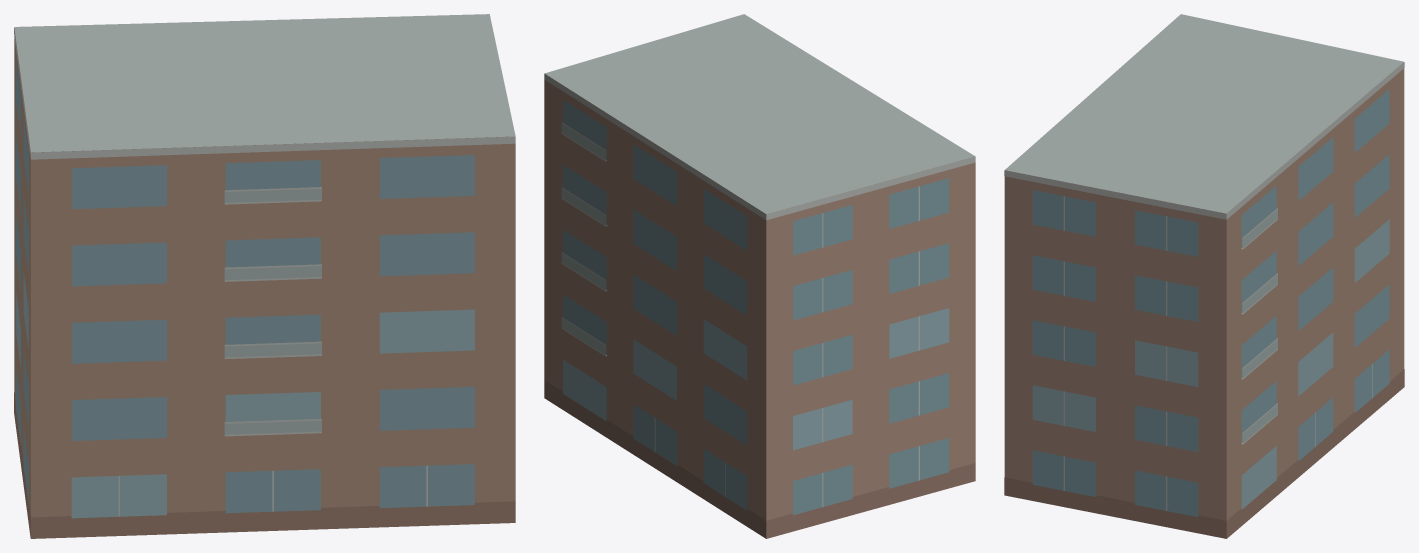
File: survey-upis-33011244.glb
3 views of the same model, side by side, from view 1: azimuth 30°, elevation 25°; view 2: azimuth 150°, elevation 25°; view 3: azimuth 270°, elevation 25° (orthographic). The views are drawn at different scales.
Visible parts, largest first — view 1: survey-upis-33011244.tmp; view 2: survey-upis-33011244.tmp; view 3: survey-upis-33011244.tmp.
Boxes of the visible parts, left/top/right/bottom form: survey-upis-33011244.tmp: left=14, top=14, right=515, bottom=538; survey-upis-33011244.tmp: left=544, top=14, right=975, bottom=538; survey-upis-33011244.tmp: left=1004, top=14, right=1404, bottom=538.
Bounding box in the file's own units: 17.12 × 13 × 14.5.
